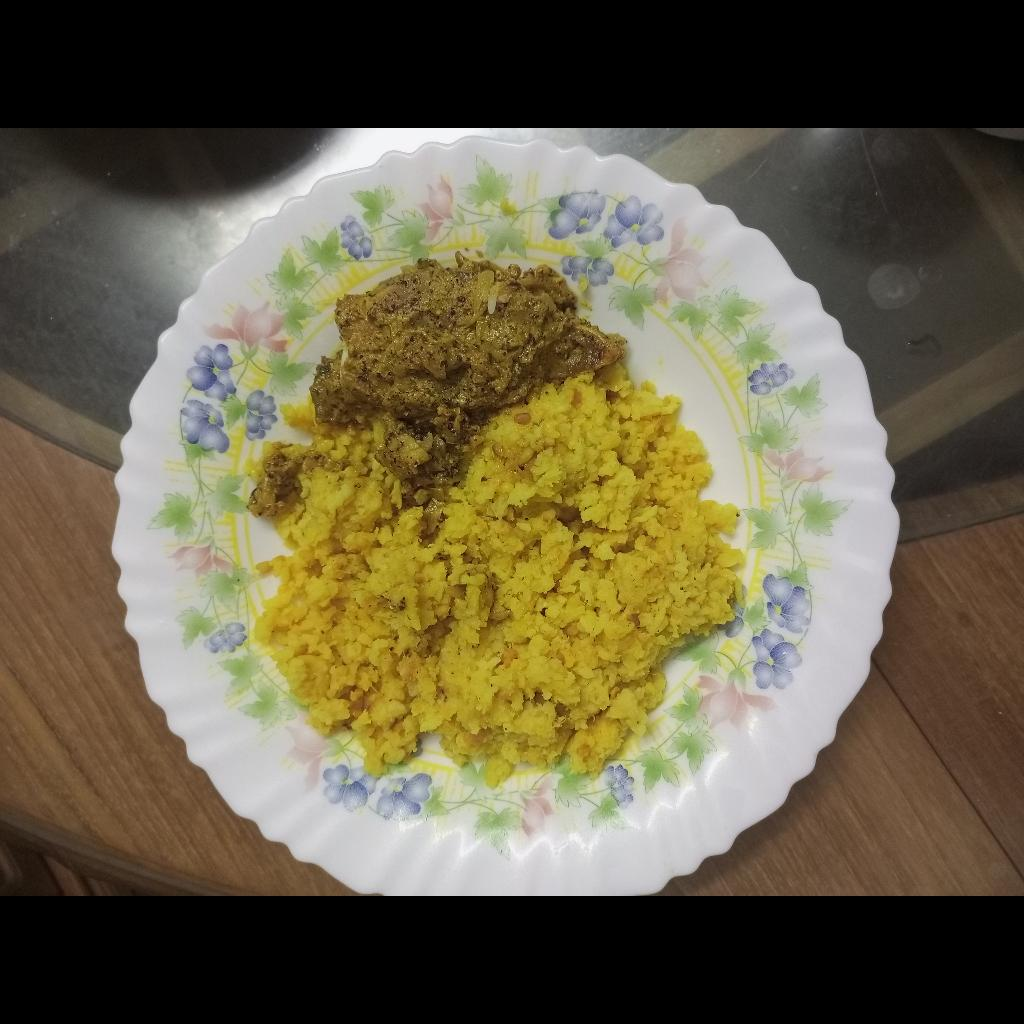khichuri: (243, 359, 745, 786)
vegetable: (311, 257, 624, 507)
